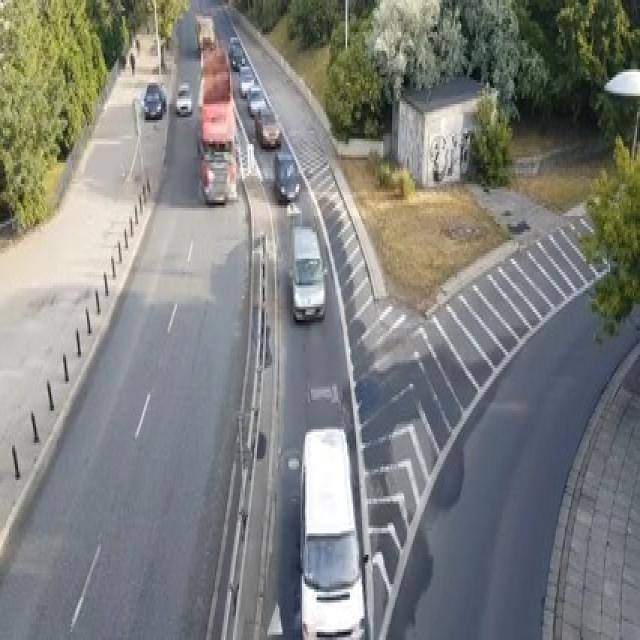bus: (298, 424, 367, 637)
car: (290, 224, 326, 323), (274, 152, 300, 203), (254, 104, 281, 147), (141, 80, 167, 120), (195, 13, 215, 48), (247, 82, 264, 114), (176, 82, 192, 114), (239, 64, 255, 96)
